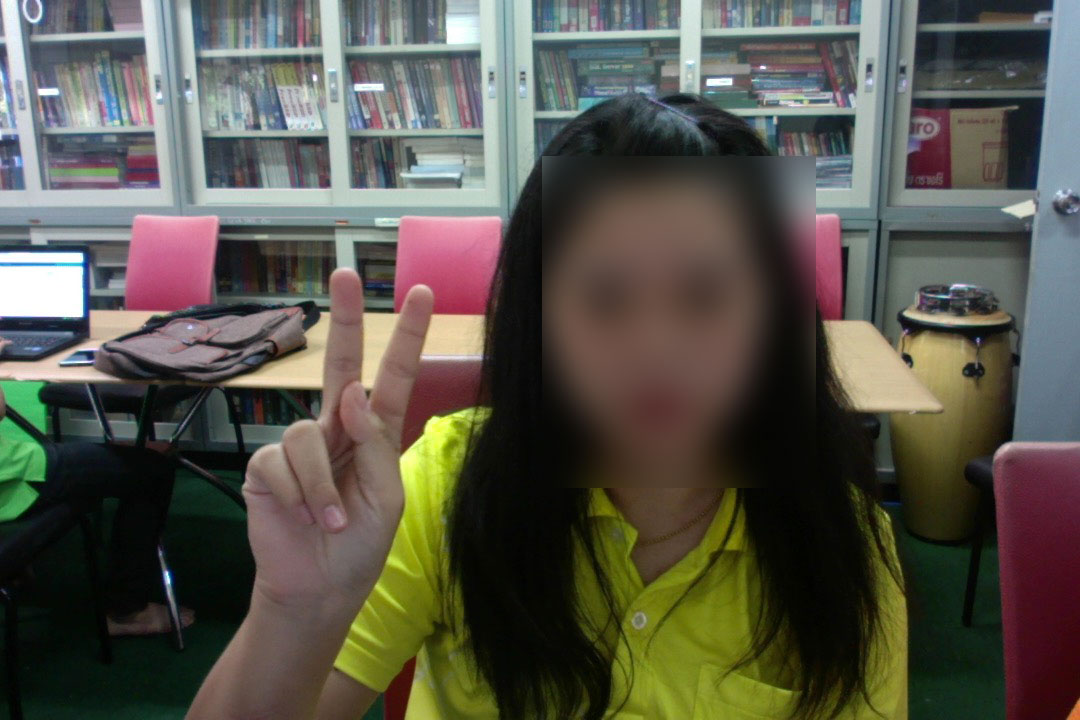ko: (227, 263, 455, 633)
